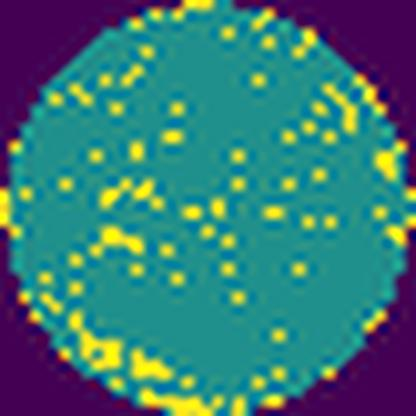Loc: (76, 311, 124, 374), (131, 347, 174, 382)
